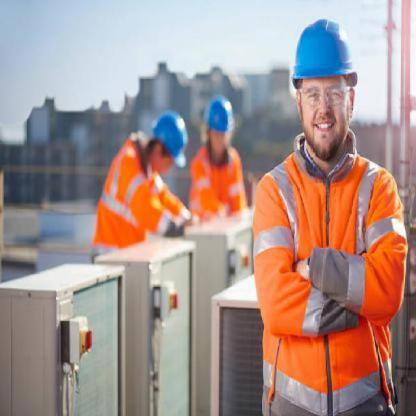blue-helm: (286, 15, 362, 90), (152, 107, 196, 176), (203, 91, 240, 137)
glass: (291, 81, 351, 111)
person: (245, 9, 411, 404), (77, 101, 193, 256), (186, 78, 252, 219)
vest-helm: (246, 155, 407, 400), (90, 137, 158, 249), (186, 145, 249, 221)
